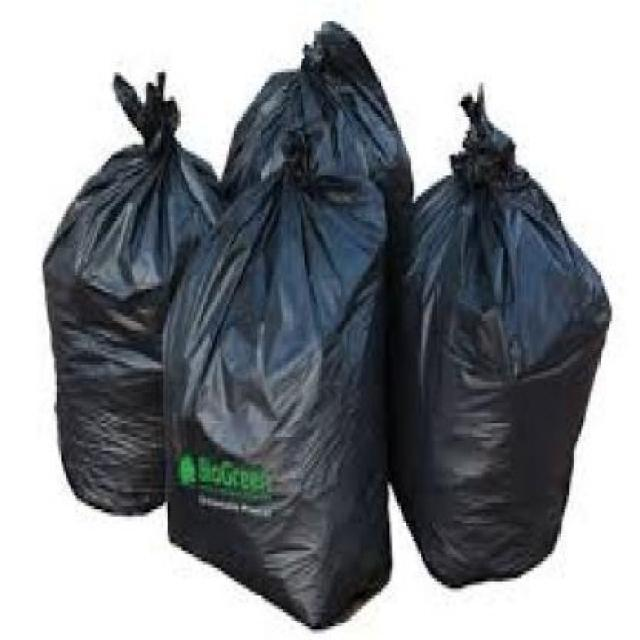garbage: (34, 34, 617, 626)
